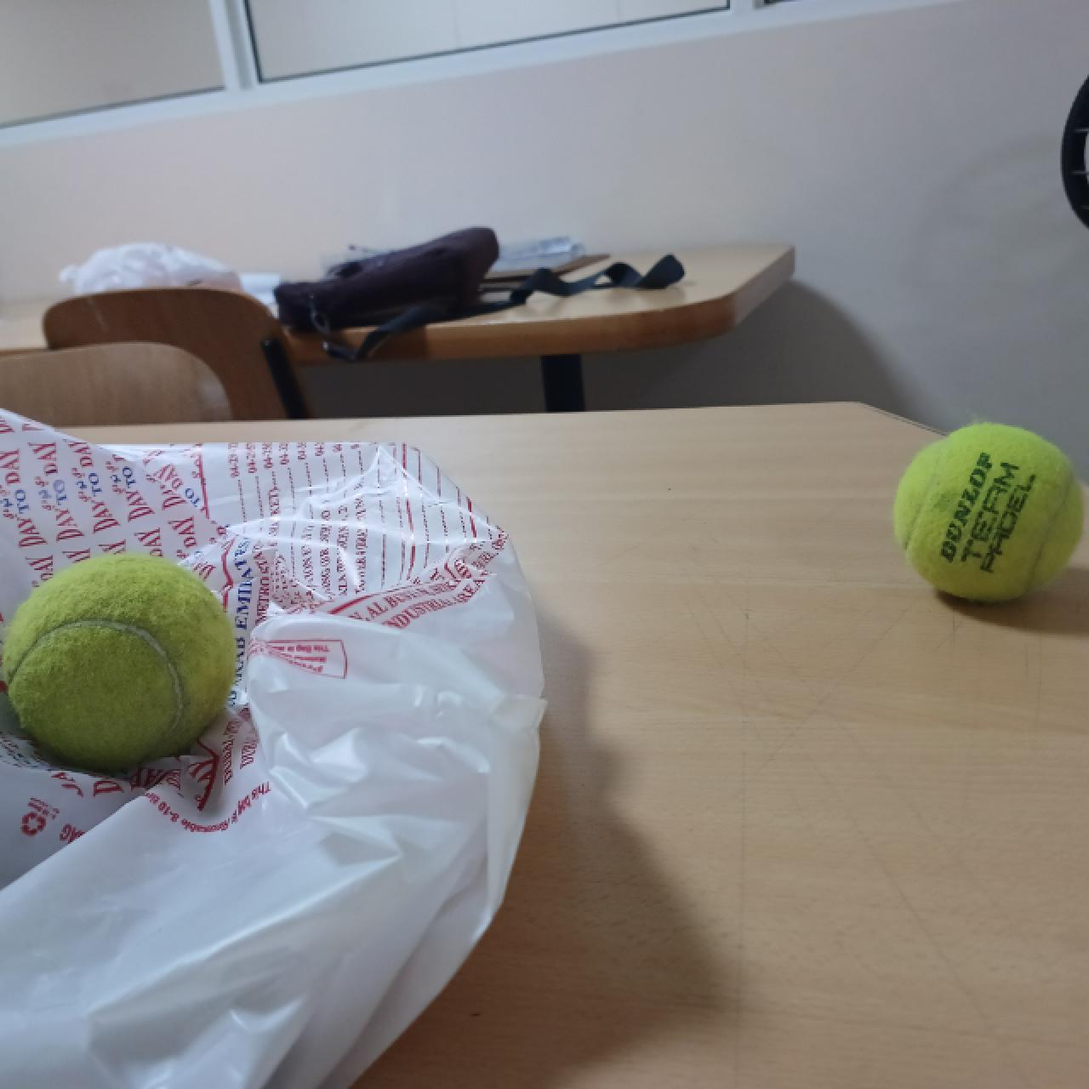tennis-ball: (0, 557, 238, 769), (892, 418, 1086, 609)
